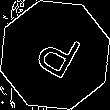P_SW: (27, 24, 83, 86)
